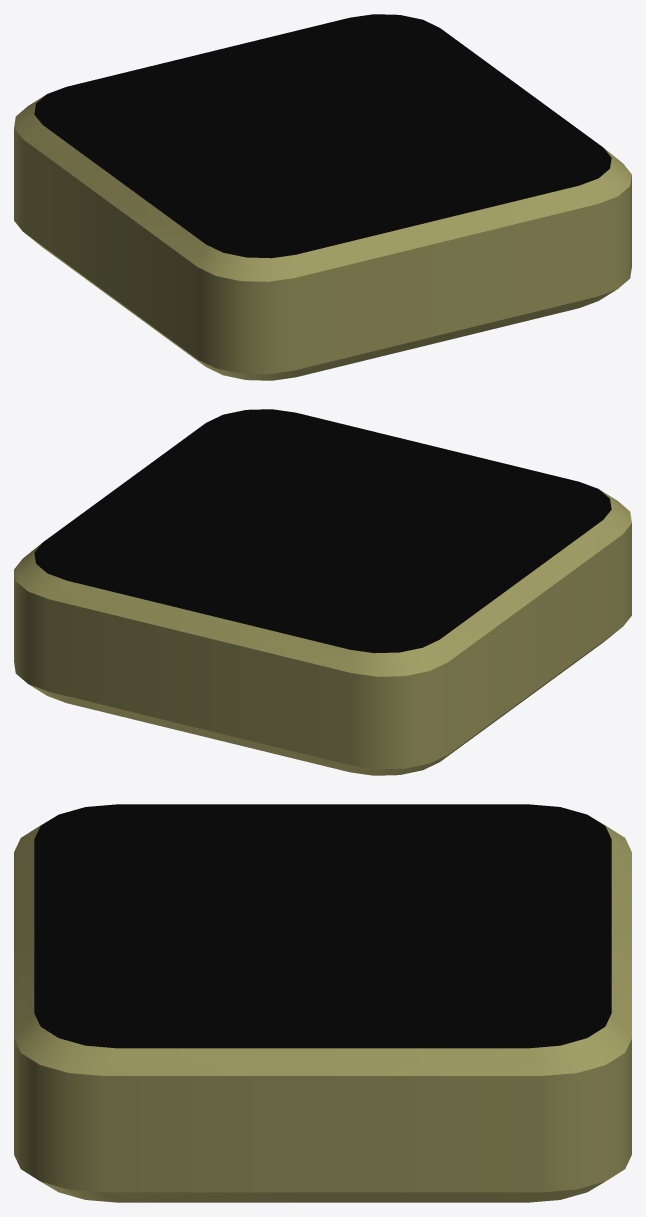
File: DoubleArrow Platform.fbx
3 renders of one model, top to bottom at view 1: azimuth 30°, elevation 25°; view 2: azimuth 150°, elevation 25°; view 3: azimuth 270°, elevation 25°, orthographic. The views are drawn at different scales.
Visible parts, largest first — view 1: tassello_colorato; view 2: tassello_colorato; view 3: tassello_colorato.
Part boxes in pixels (x1,y1,x2,y2): tassello_colorato: (14,14,631,380); tassello_colorato: (14,409,631,775); tassello_colorato: (14,804,631,1202).
Size of the model in its own units: 177 by 48.71 by 177.
